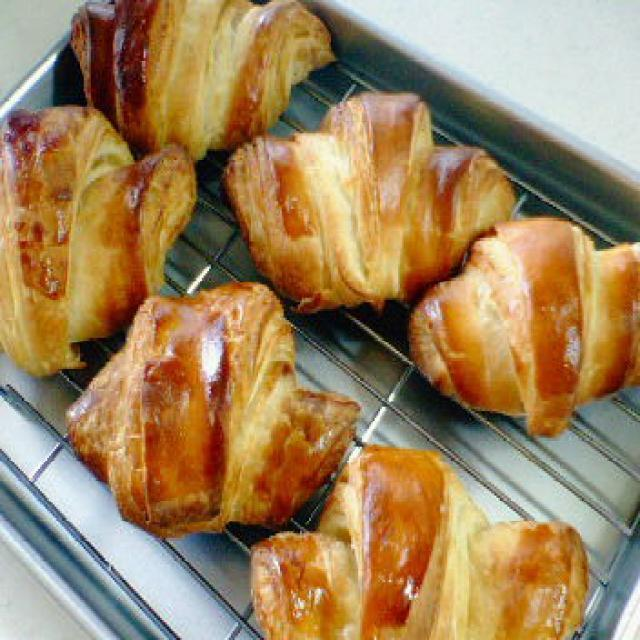Croissant: (75, 266, 348, 548)
